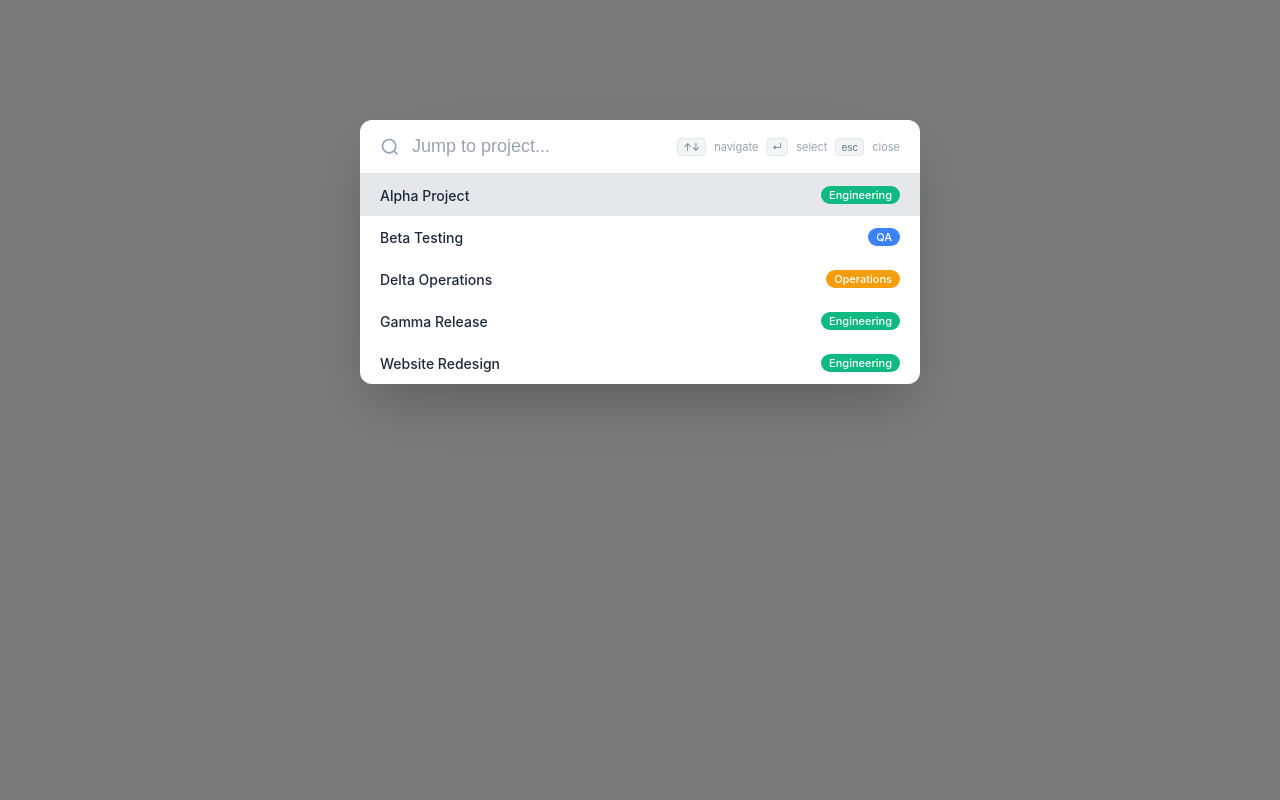
Test: JumpToProject › Search Functionality › should be case-insensitive
Expected: the text "Alpha Project" is shown, [380,186,469,204]
Type "ALPHA" into the field with placeholder "Jump to project...".
click(539, 146); type("ALPHA")  # box [412,136,666,157]
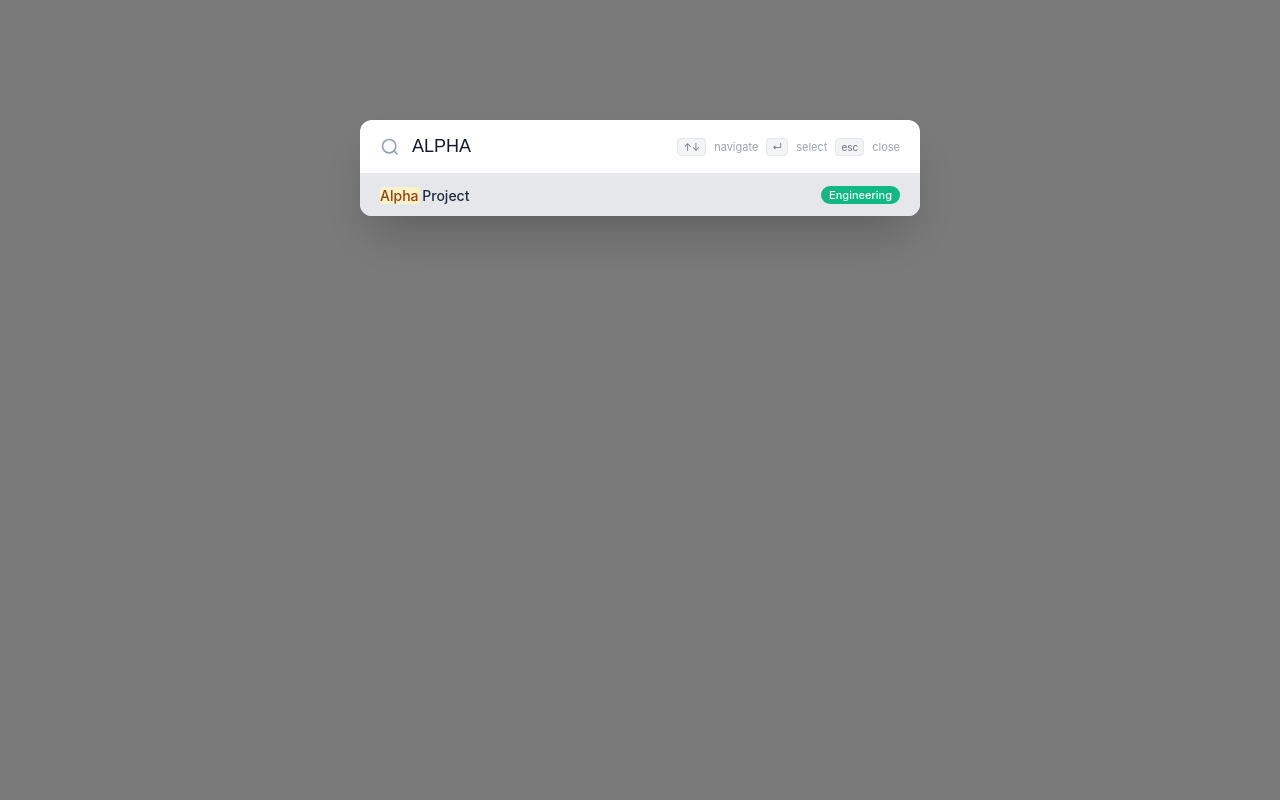
Expected: the element with class "jump-result-item" shows "Alpha", [360,174,920,216]
Now the number of elements with class "jump-result-item" is 1, box [360,174,920,216]
